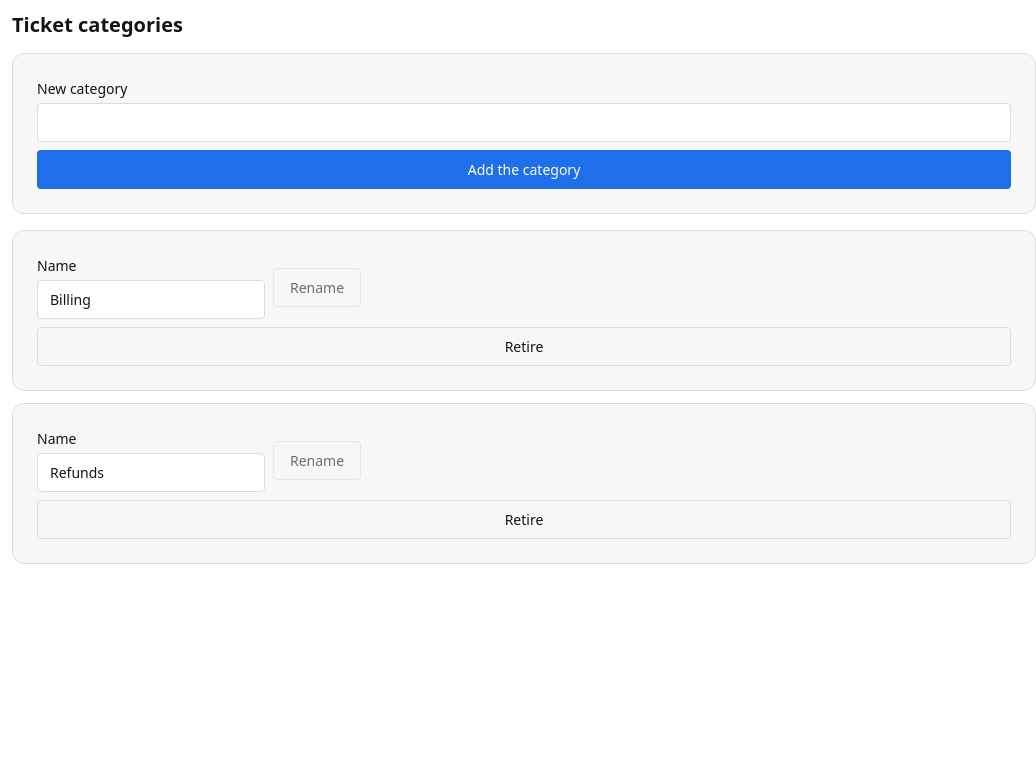
Test: a name already taken marks the field with the shared sentence
The image size is (1036, 780).
Expected: the 1st field showing "Billing" is shown, x1=37 y1=280 x2=265 y2=319
In the field labelled "New category": (524, 122) x1=37 y1=103 x2=1011 y2=142, type "billing"
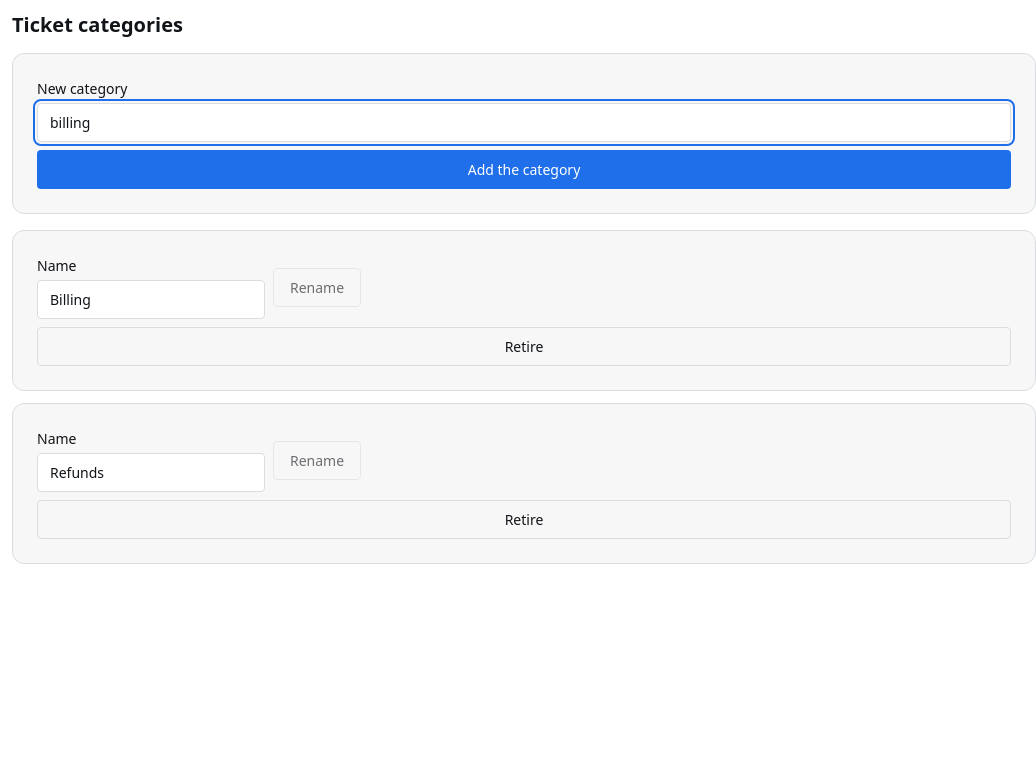
Click the button "Add the category": (524, 170) x1=37 y1=150 x2=1011 y2=189
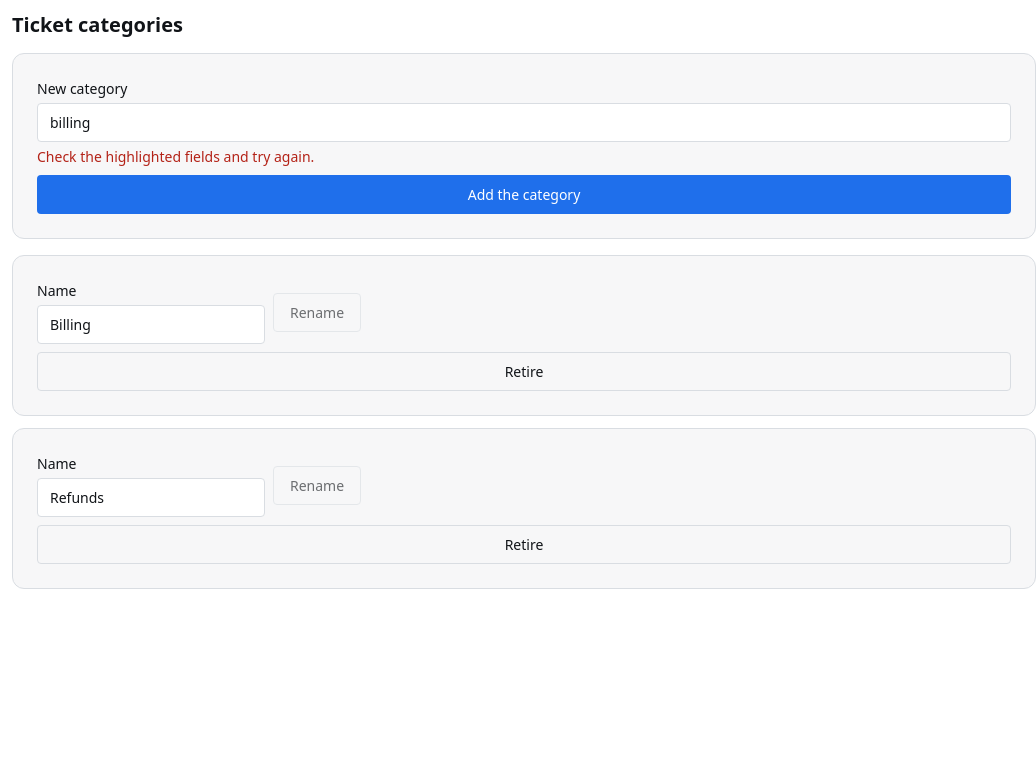
Now the text "Check the highlighted fields and try again." is shown, box x1=37 y1=147 x2=314 y2=166
